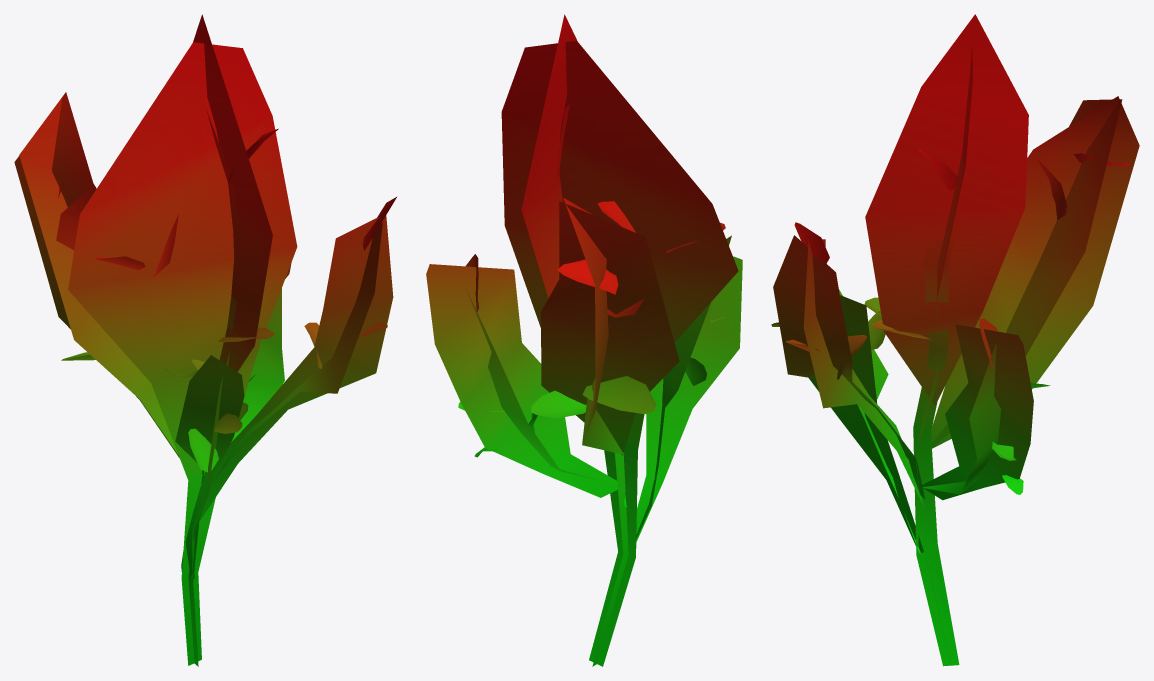
Rendered from Bilberry_LOD0_Var8_vldufeiha.fbx.
3 renders of one model, left to right at view 1: azimuth 30°, elevation 25°; view 2: azimuth 150°, elevation 25°; view 3: azimuth 270°, elevation 25°, orthographic. The views are drawn at different scales.
Visible parts, largest first — view 1: _p1fp_Var8_LOD0; view 2: _p1fp_Var8_LOD0; view 3: _p1fp_Var8_LOD0.
Part boxes in pixels (x1=…): _p1fp_Var8_LOD0: x1=14, y1=14, x2=396, y2=666; _p1fp_Var8_LOD0: x1=426, y1=14, x2=742, y2=666; _p1fp_Var8_LOD0: x1=771, y1=14, x2=1139, y2=666.
Bounding box in the file's own units: 4.68 × 10.8 × 5.44.
